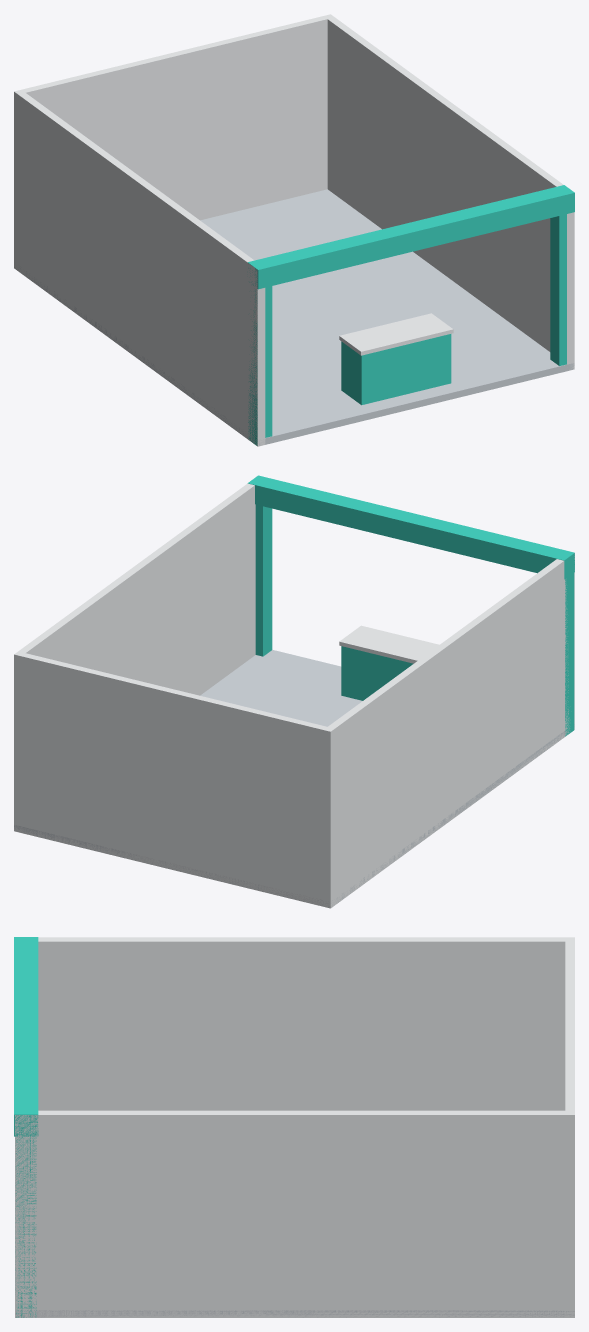
The picture shows the model from 3 angles, top to bottom: view 1: azimuth 30°, elevation 25°; view 2: azimuth 150°, elevation 25°; view 3: azimuth 270°, elevation 25°; orthographic projection. The views are drawn at different scales.
Parts seen in each view (by area): view 1: Exhibition Booth Concept; view 2: Exhibition Booth Concept; view 3: Exhibition Booth Concept.
Part boxes in pixels (x1,y1,x2,y2): Exhibition Booth Concept: (14,14,574,446); Exhibition Booth Concept: (14,475,574,908); Exhibition Booth Concept: (14,937,574,1317).
Bounding box in the file's own units: 6 × 3.2 × 8.01.
